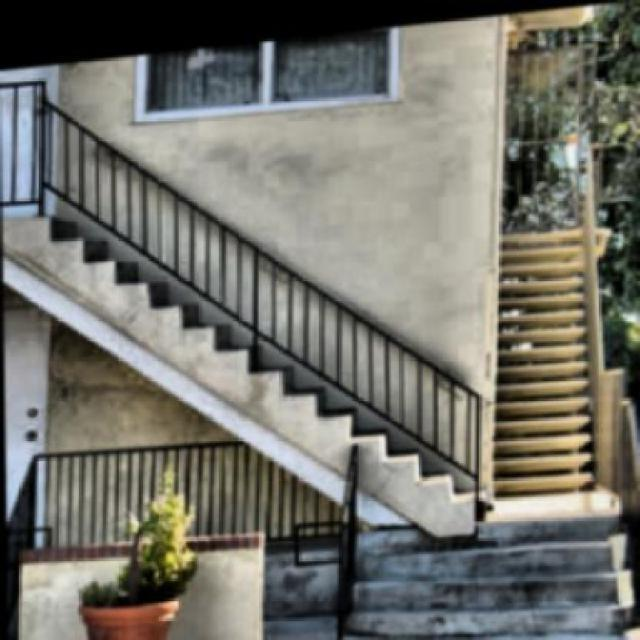stair: (482, 216, 606, 498)
